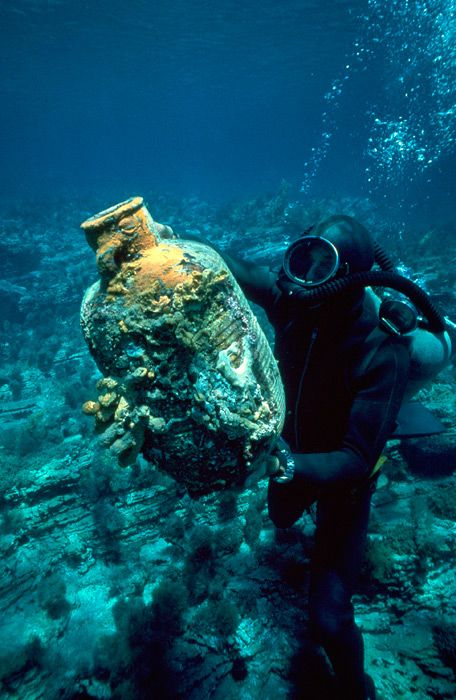amphora: (72, 195, 294, 496)
